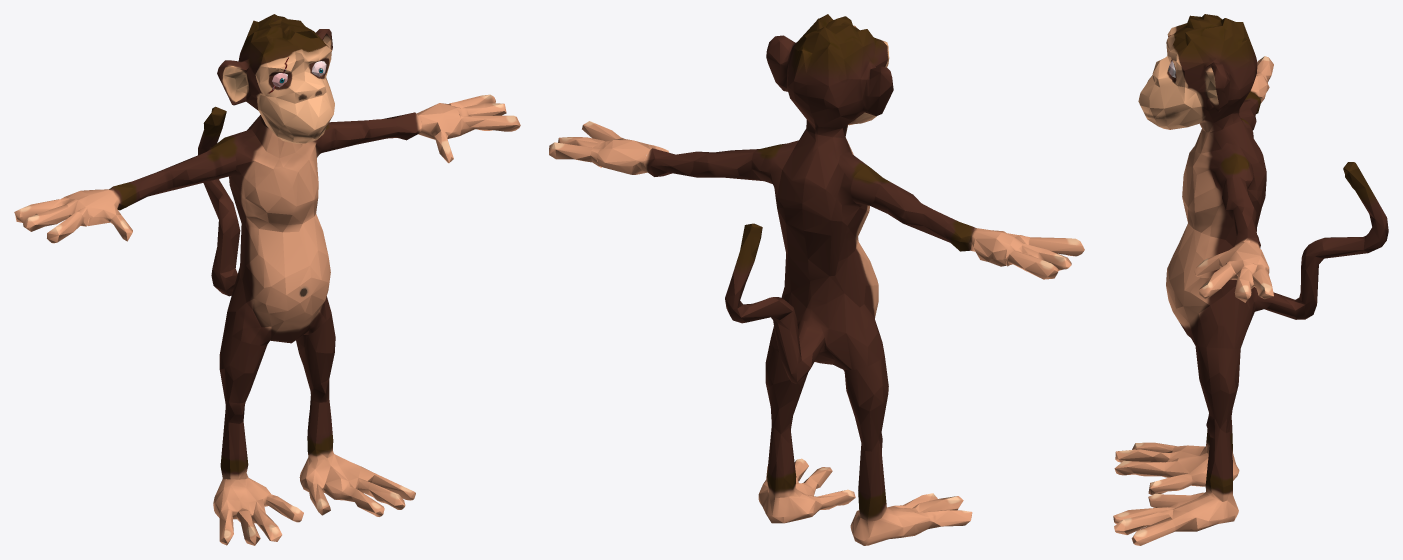
Rendered from Monkey.obj.
3 renders of one model, left to right at view 1: azimuth 30°, elevation 25°; view 2: azimuth 150°, elevation 25°; view 3: azimuth 270°, elevation 25°, orthographic. The views are drawn at different scales.
Parts seen in each view (by area): view 1: Monkey1:Cabeza; view 2: Monkey1:Cabeza; view 3: Monkey1:Cabeza.
Part boxes in pixels (<box>): Monkey1:Cabeza: <box>14,14,520,545</box>; Monkey1:Cabeza: <box>549,14,1084,545</box>; Monkey1:Cabeza: <box>1113,14,1388,545</box>.
Bounding box in the file's own units: 5.16 × 4.91 × 2.53.
2 materials, 2 textured.
